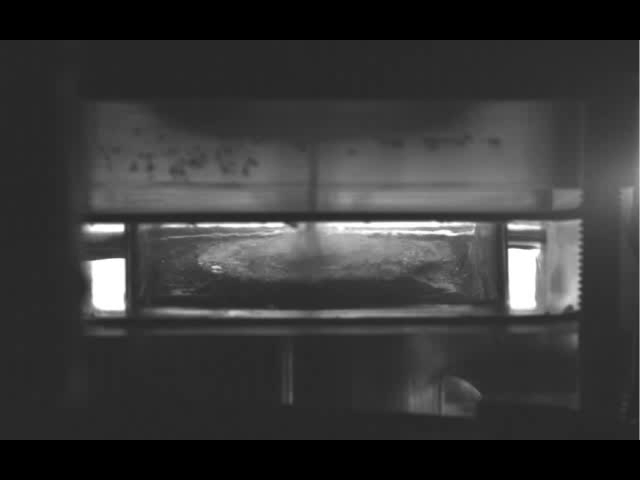Zona de teste: (200, 229, 426, 286)
